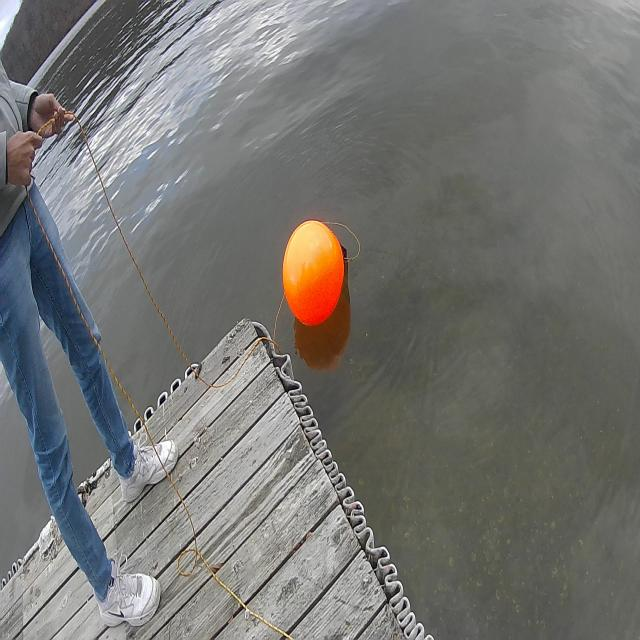Buoy: (274, 213, 350, 334)
